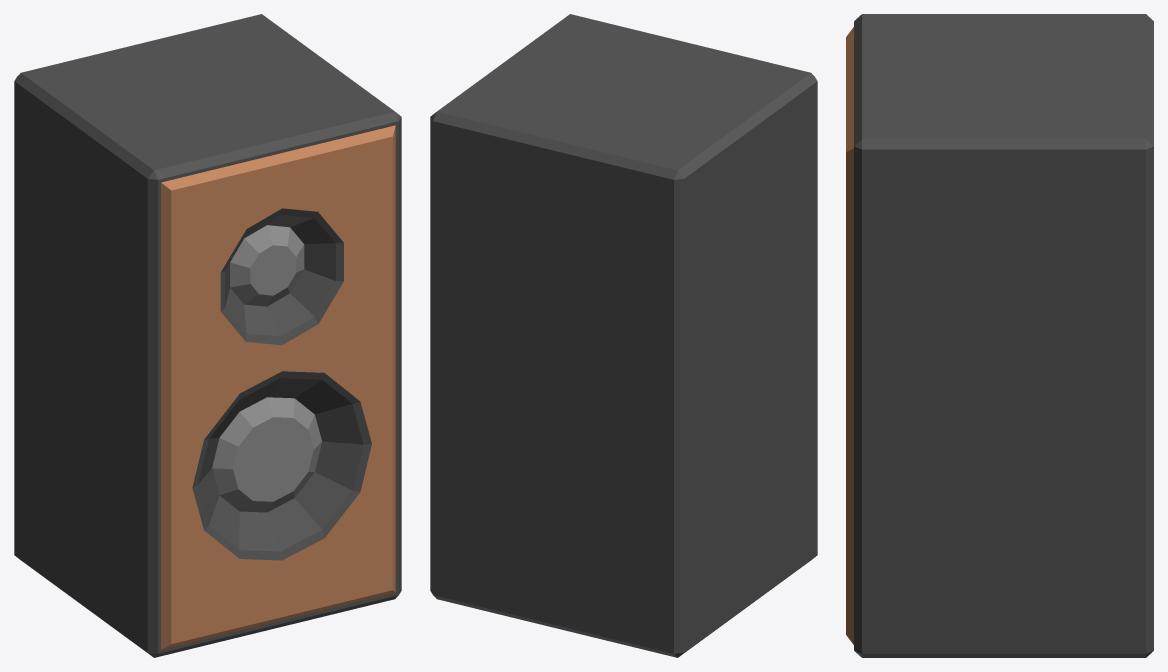
File: Speaker.glb
3 views of the same model, side by side, from view 1: azimuth 30°, elevation 25°; view 2: azimuth 150°, elevation 25°; view 3: azimuth 270°, elevation 25° (orthographic). The views are drawn at different scales.
Visible parts, largest first — view 1: Speaker; view 2: Speaker; view 3: Speaker.
Boxes of the visible parts, <box> form: Speaker: <box>14,14,401,657</box>; Speaker: <box>430,14,817,657</box>; Speaker: <box>846,14,1153,657</box>.
Bounding box in the file's own units: 78.81 × 145 × 77.76.
